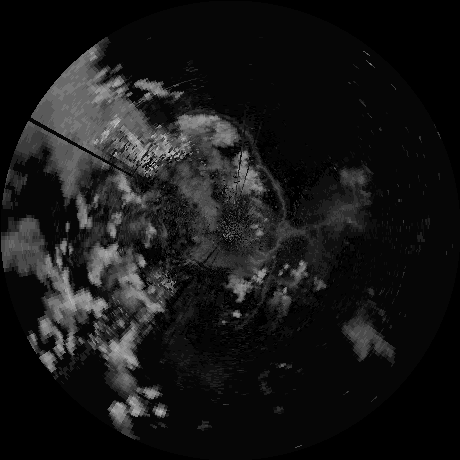frontgust: (238, 265, 273, 322), (258, 167, 287, 209), (239, 124, 262, 167), (262, 214, 284, 258)
